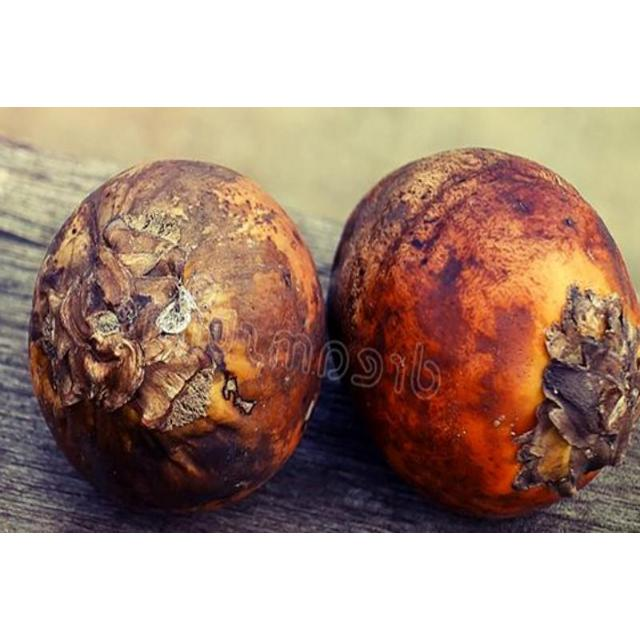damaged: (329, 149, 639, 517), (29, 160, 326, 510)
